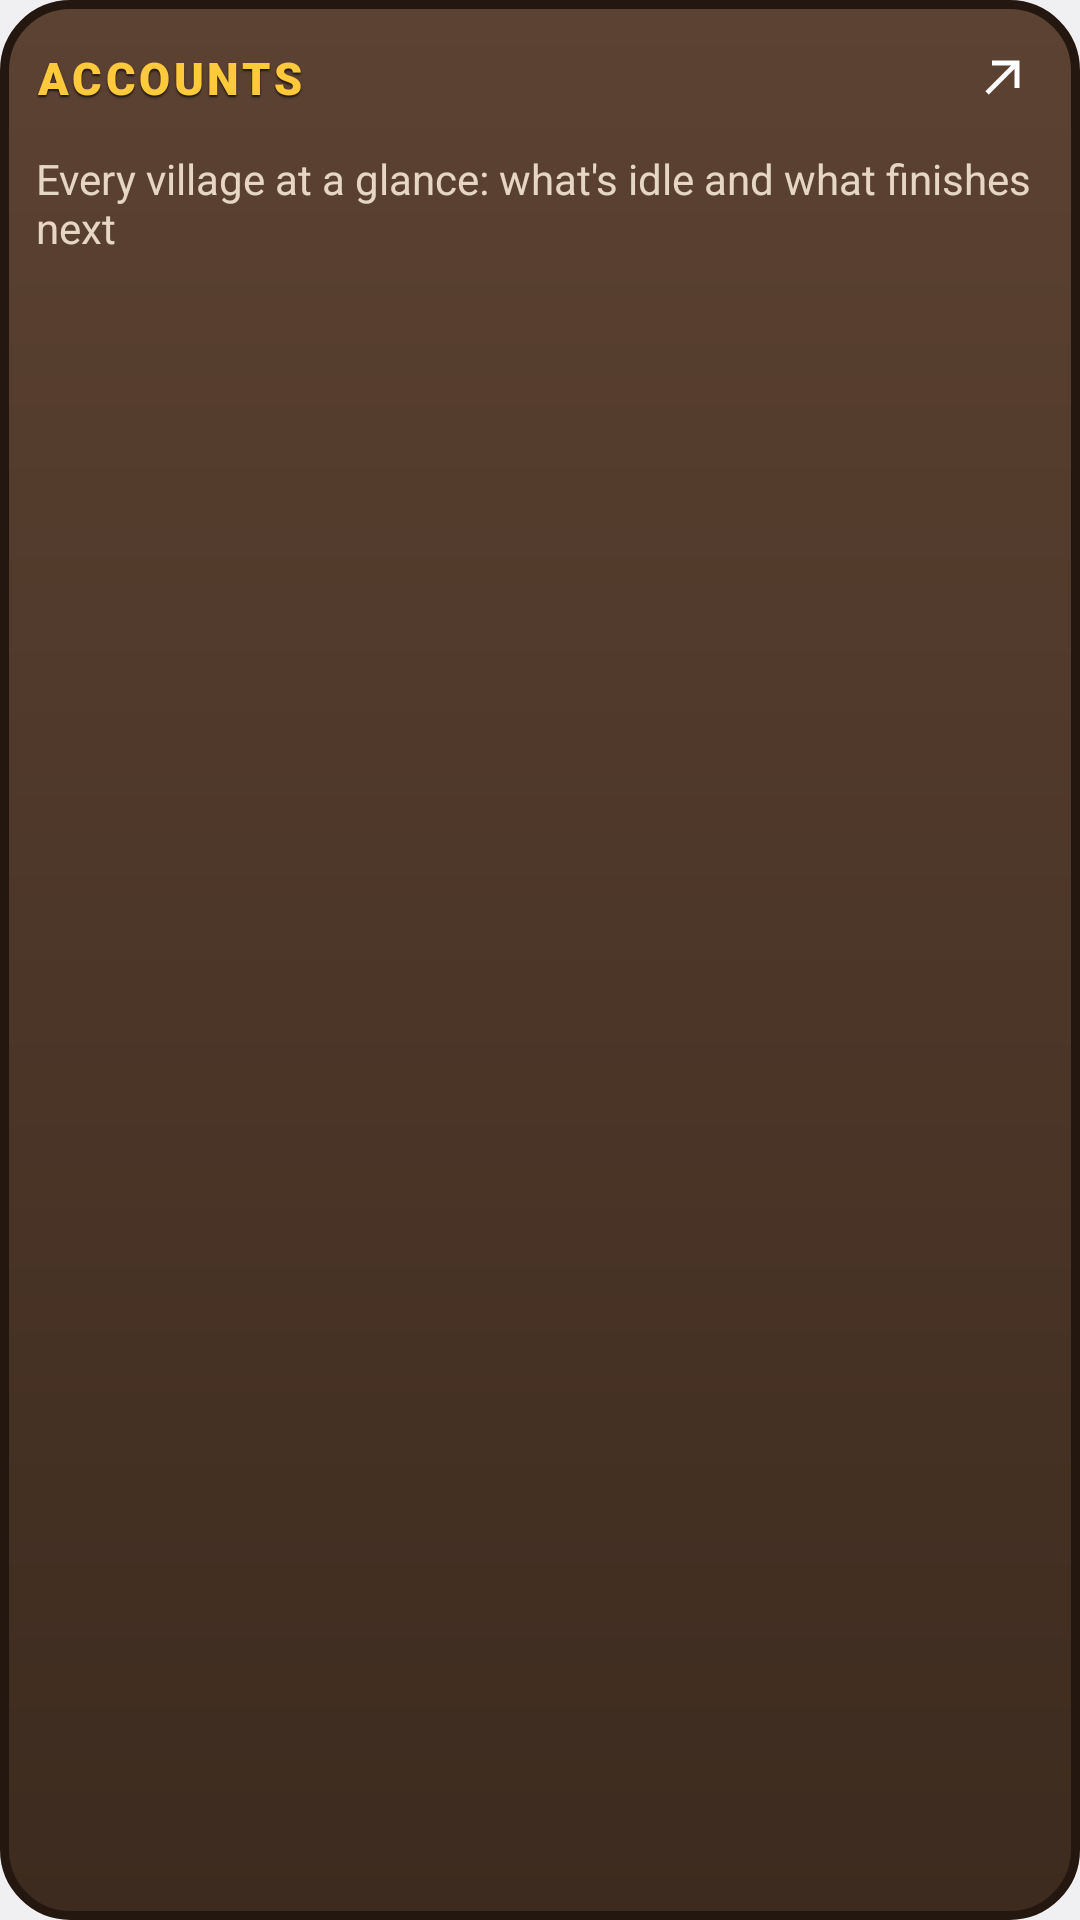

Where icons sit on this 1080px×1920px app screen, as (x1, y1, x2, y2):
open: (985, 60, 1020, 95)
